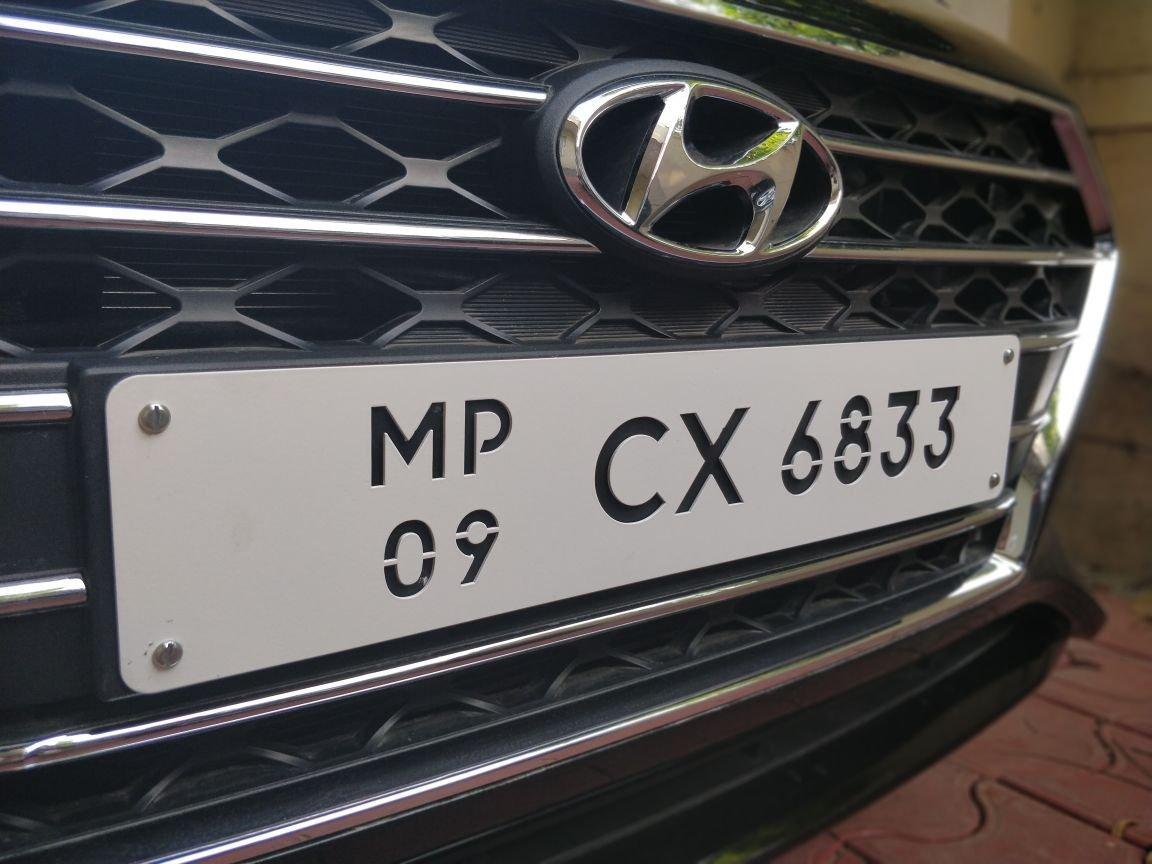licence_plate: (62, 337, 1053, 705)
